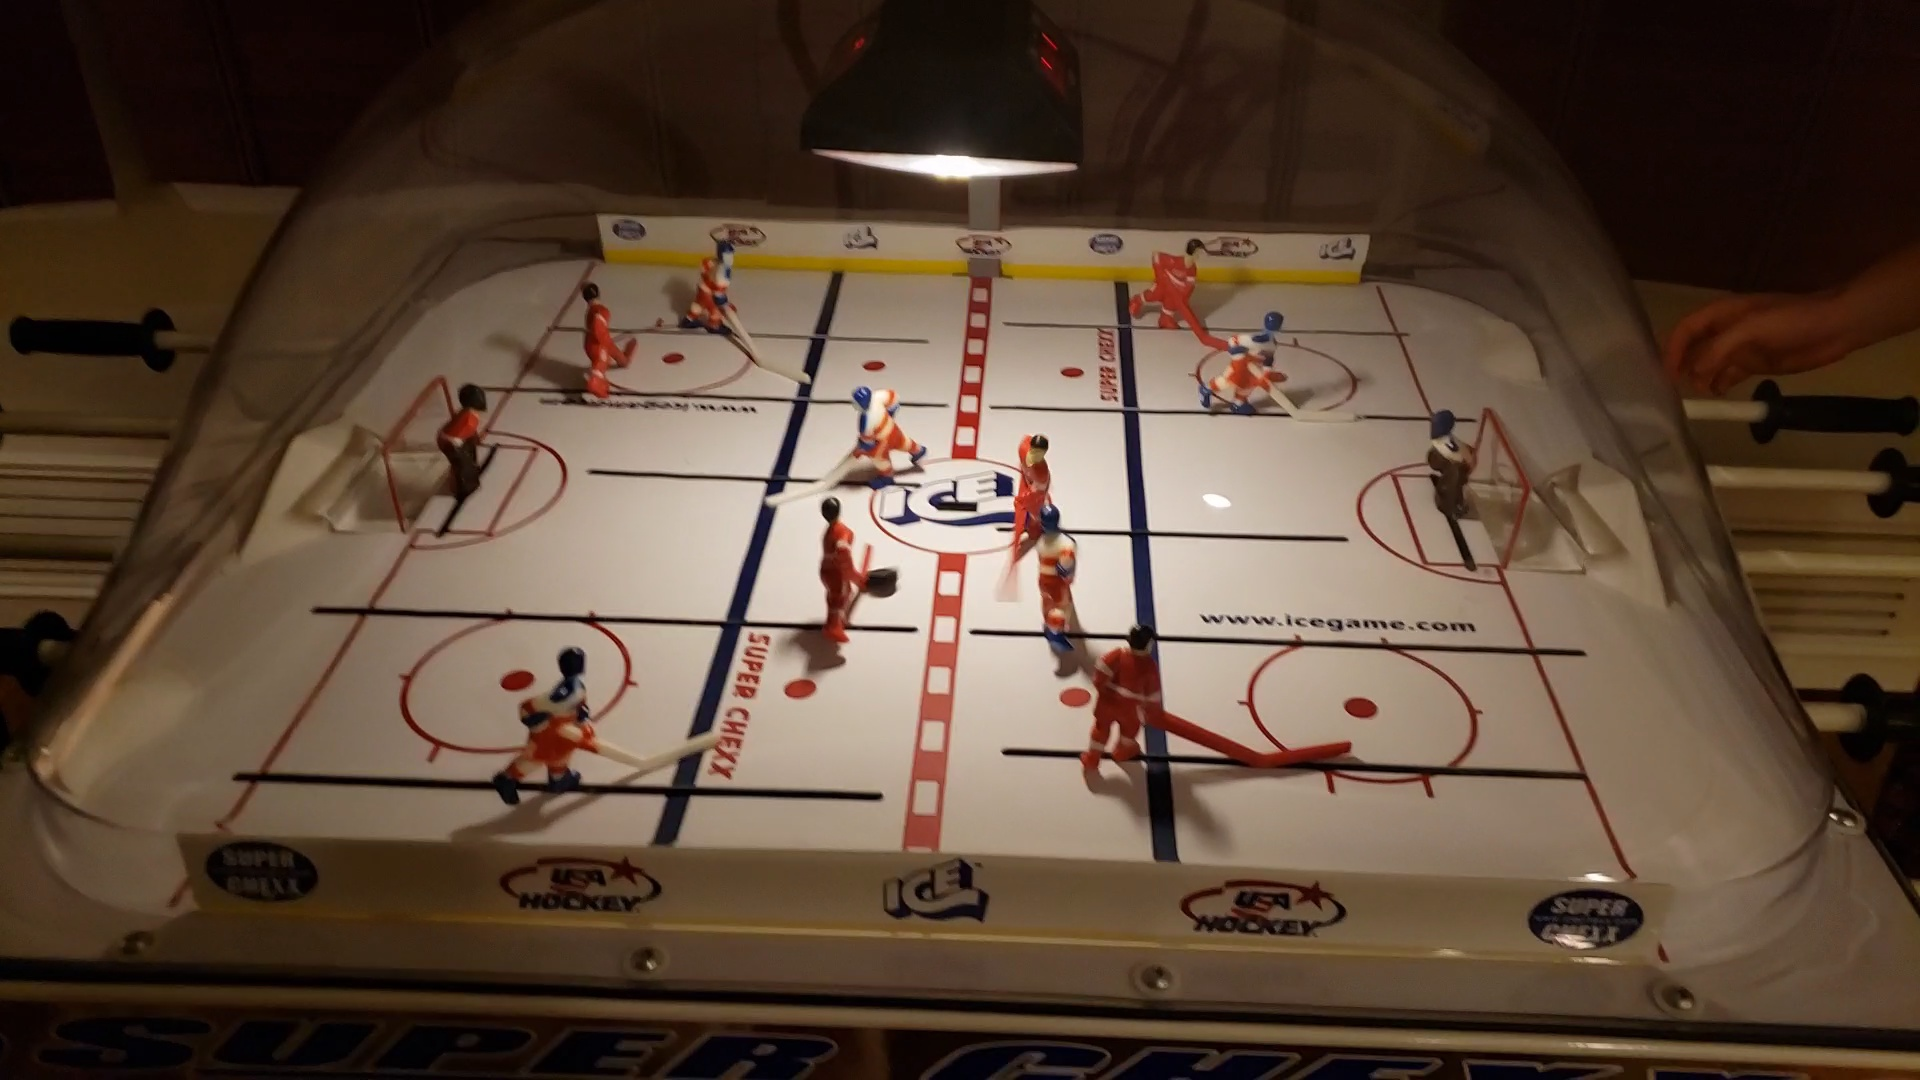puck: (868, 567, 899, 596)
